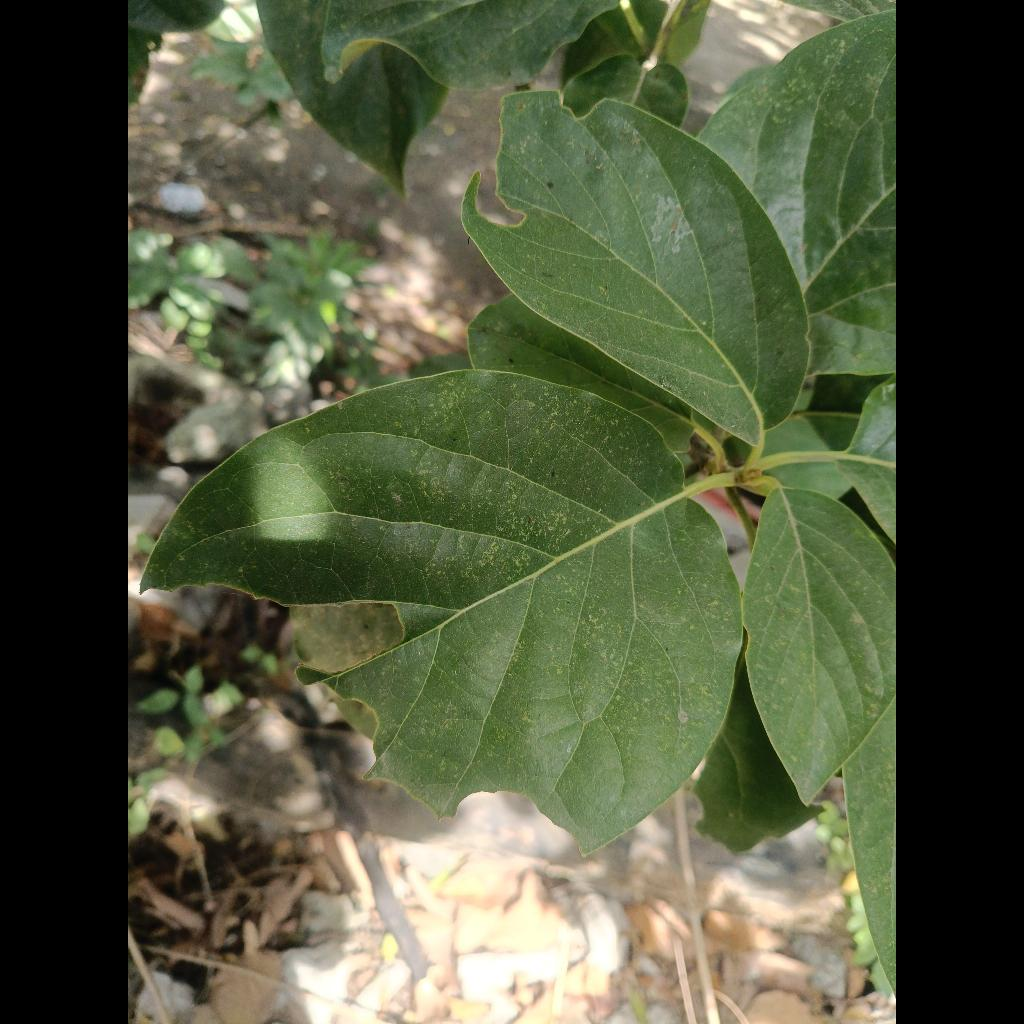Pest Infested: (146, 371, 742, 850), (462, 92, 808, 444)
